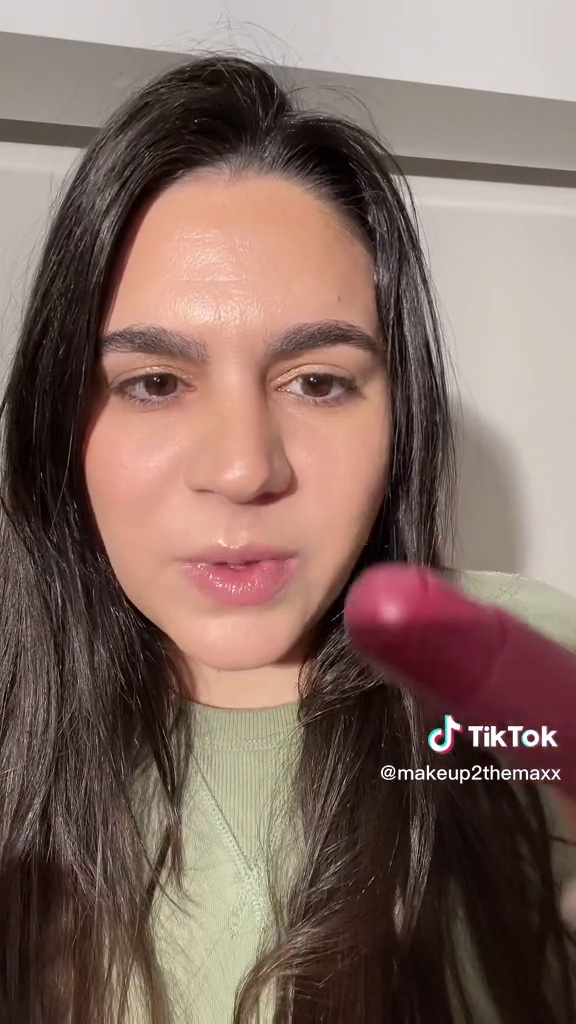train' :'yolo_data/train/images',: (329, 548, 575, 802)
